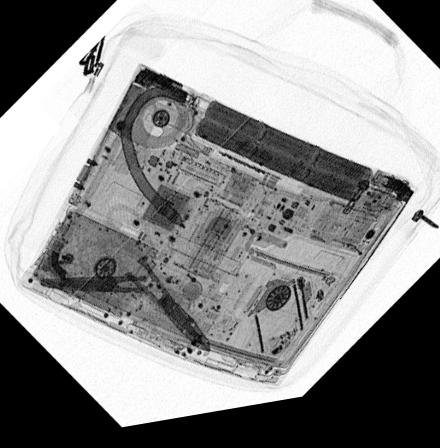Scissors: (72, 203, 211, 364)
